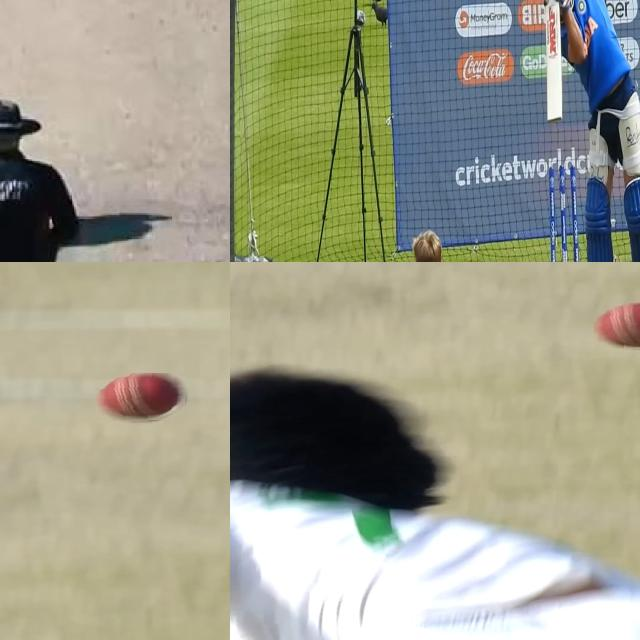Cricket ball: (96, 373, 188, 423), (594, 301, 640, 351)
Stumps: (547, 164, 581, 262)
